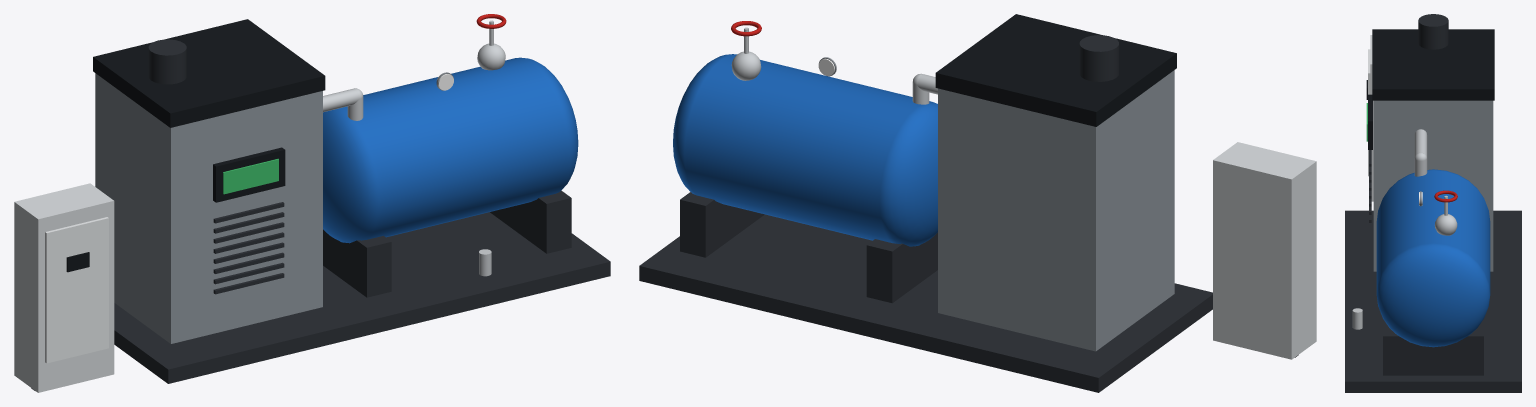
The model's file is Air compressor.glb.
3 views of the same model, side by side, from view 1: azimuth 30°, elevation 25°; view 2: azimuth 150°, elevation 25°; view 3: azimuth 270°, elevation 25° (orthographic). The views are drawn at different scales.
Parts seen in each view (by area): view 1: Asset; view 2: Asset; view 3: Asset.
Part boxes in pixels (x1,y1,x2,y2): Asset: [14, 14, 610, 392]; Asset: [639, 14, 1316, 392]; Asset: [1345, 14, 1521, 392].
Bounding box in the file's own units: 4.08 × 1.95 × 1.4.
